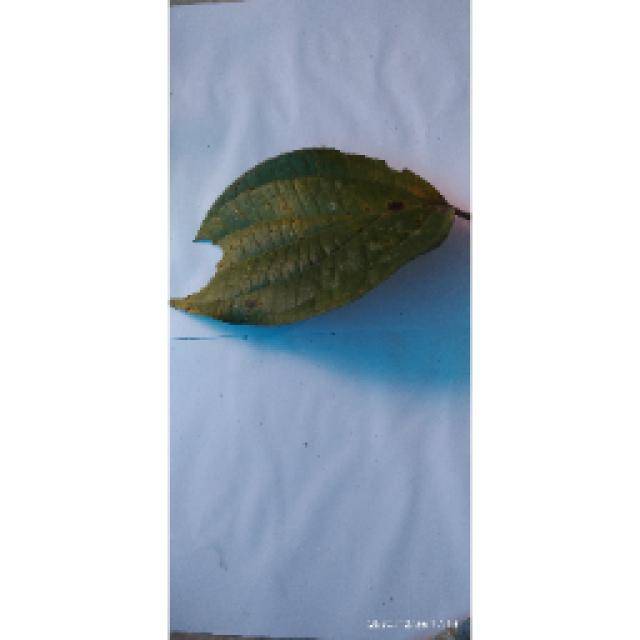slow-decline: (168, 145, 462, 323)
